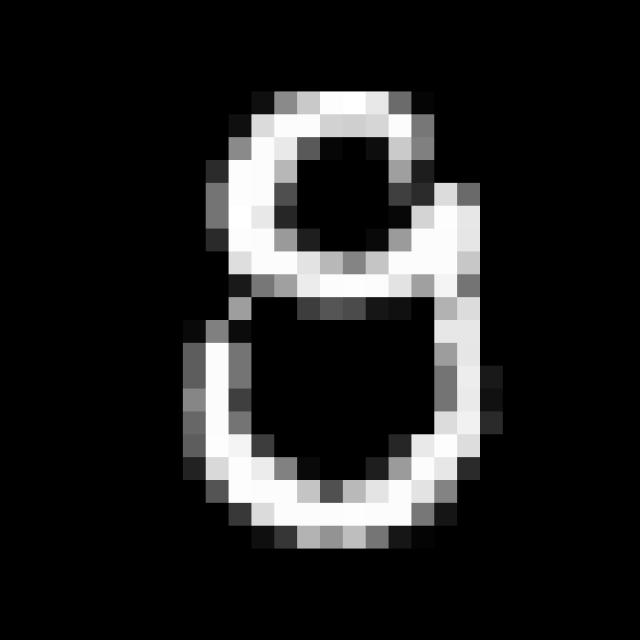nine -9-: (190, 84, 498, 558)
